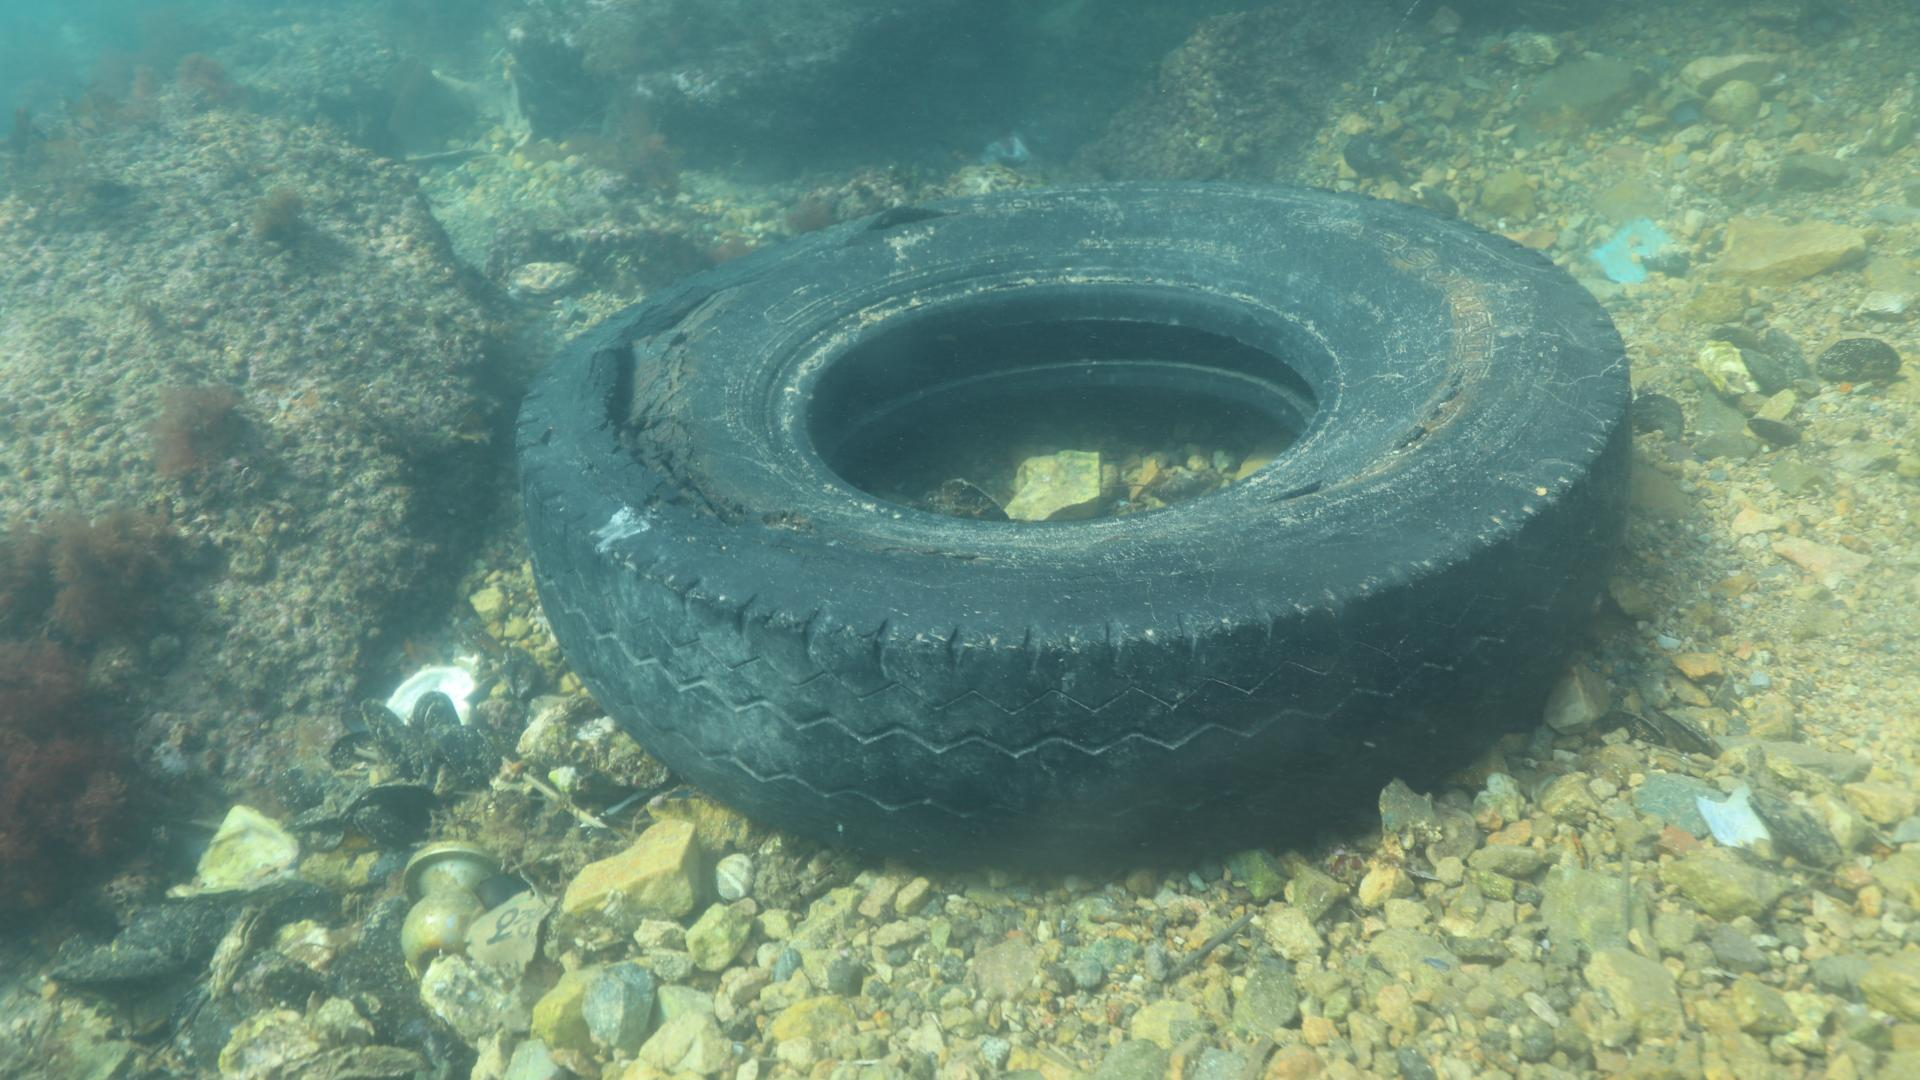tire: (513, 181, 1634, 881)
